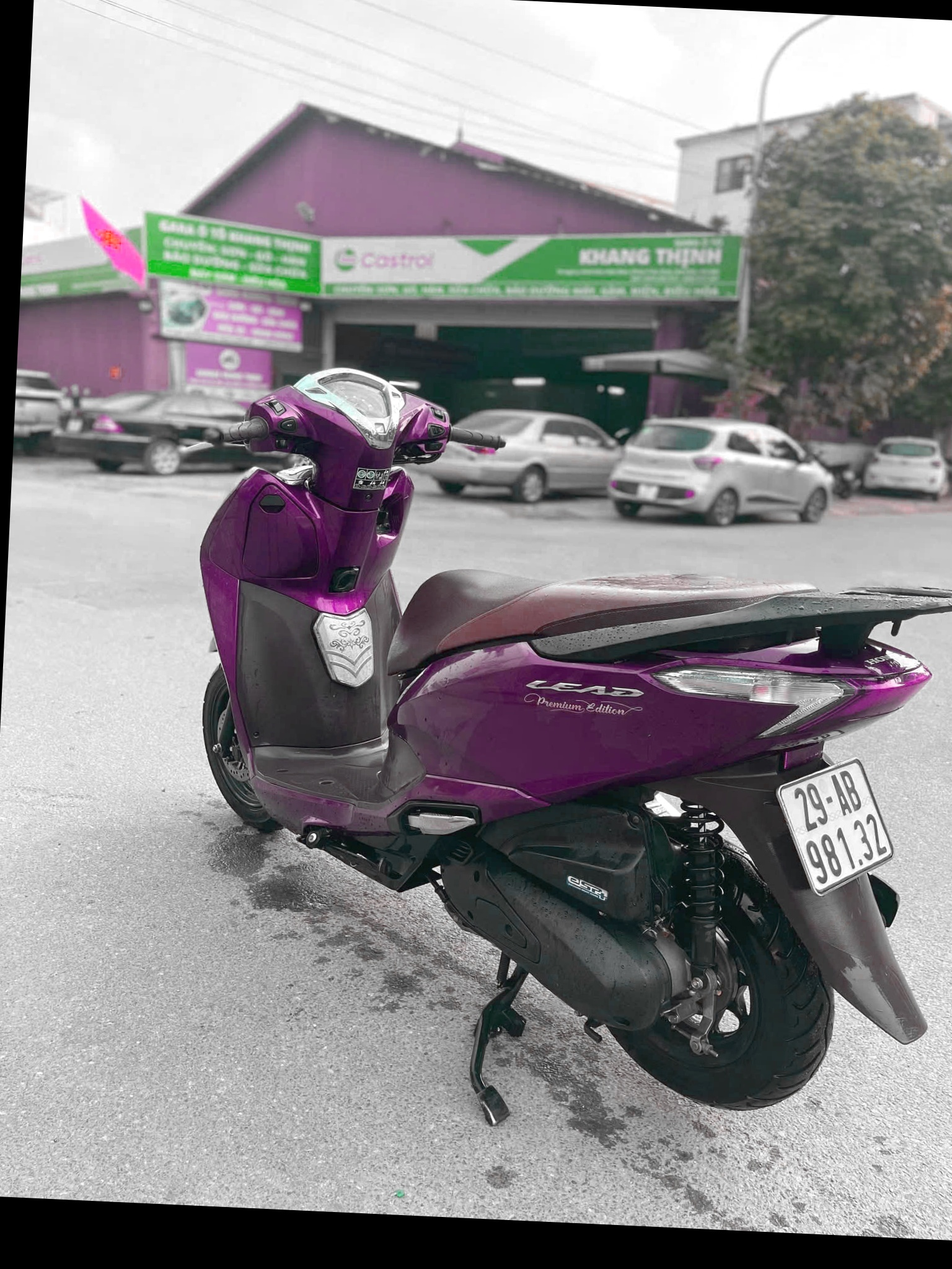Bien-so: (722, 797, 849, 954)
